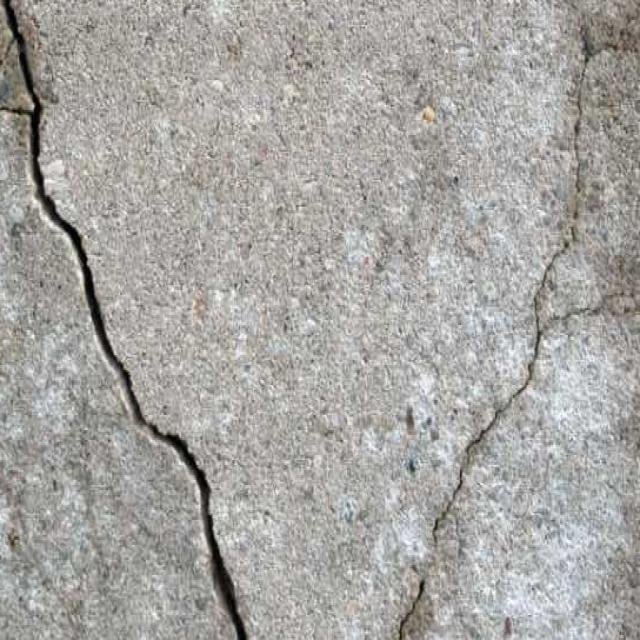Diagonal: (2, 5, 246, 640)
Radial: (392, 0, 640, 640)
